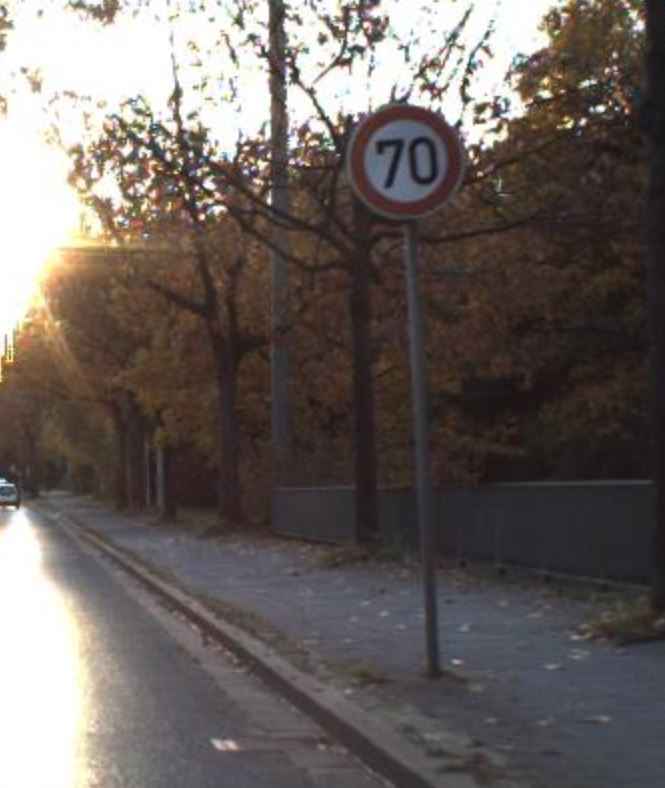70 Km Hiz Siniri: (347, 103, 464, 221)
